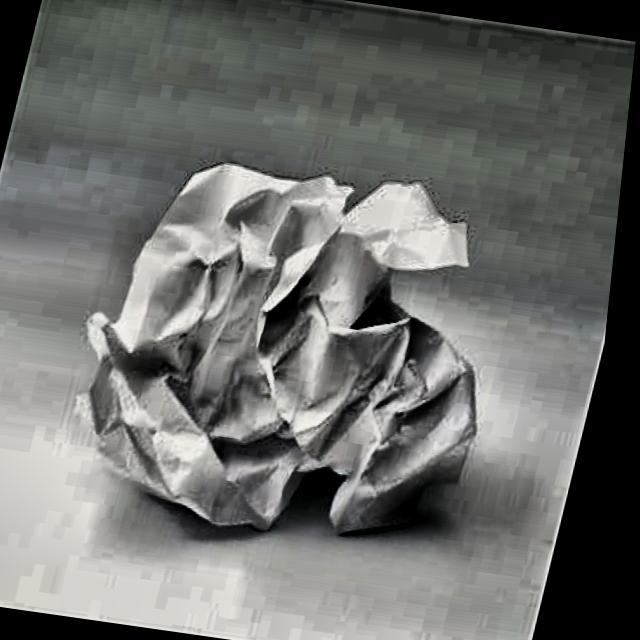Paper: (38, 143, 562, 585)
